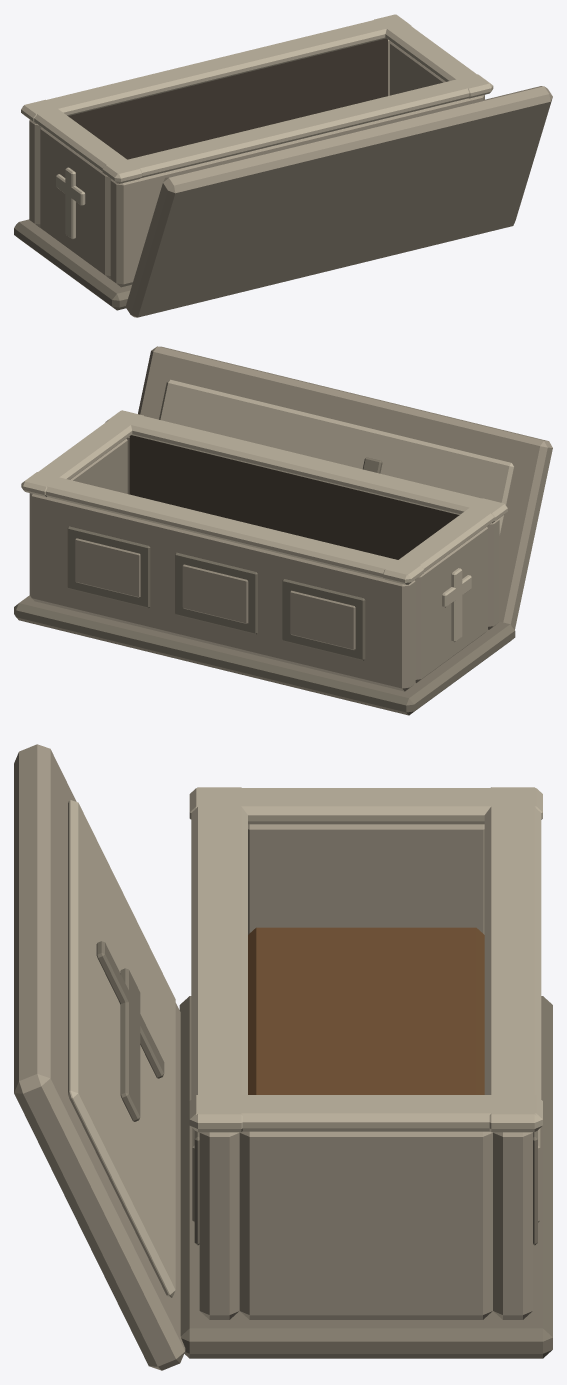
Rendered from tomba.glb.
3 renders of one model, top to bottom at view 1: azimuth 30°, elevation 25°; view 2: azimuth 150°, elevation 25°; view 3: azimuth 270°, elevation 25°, orthographic. The views are drawn at different scales.
Parts seen in each view (by area): view 1: tomba2; view 2: tomba2; view 3: tomba2.
Part boxes in pixels (x1,y1,x2,y2): tomba2: (14,14,552,317); tomba2: (14,346,552,715); tomba2: (14,744,552,1370).
Size of the model in its own units: 2.46 by 0.9829 by 1.62.
